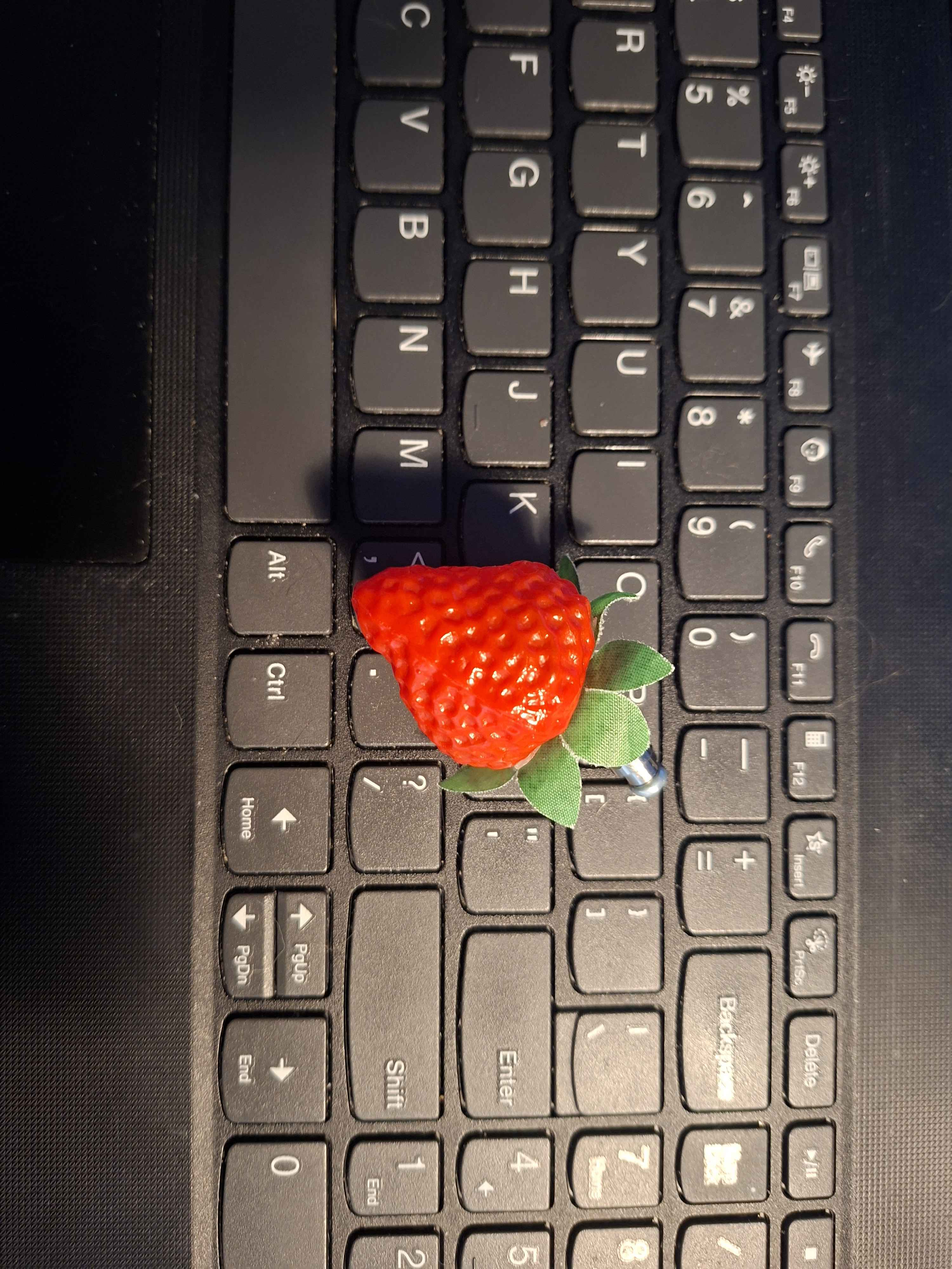Strawberry: (338, 532, 615, 794)
